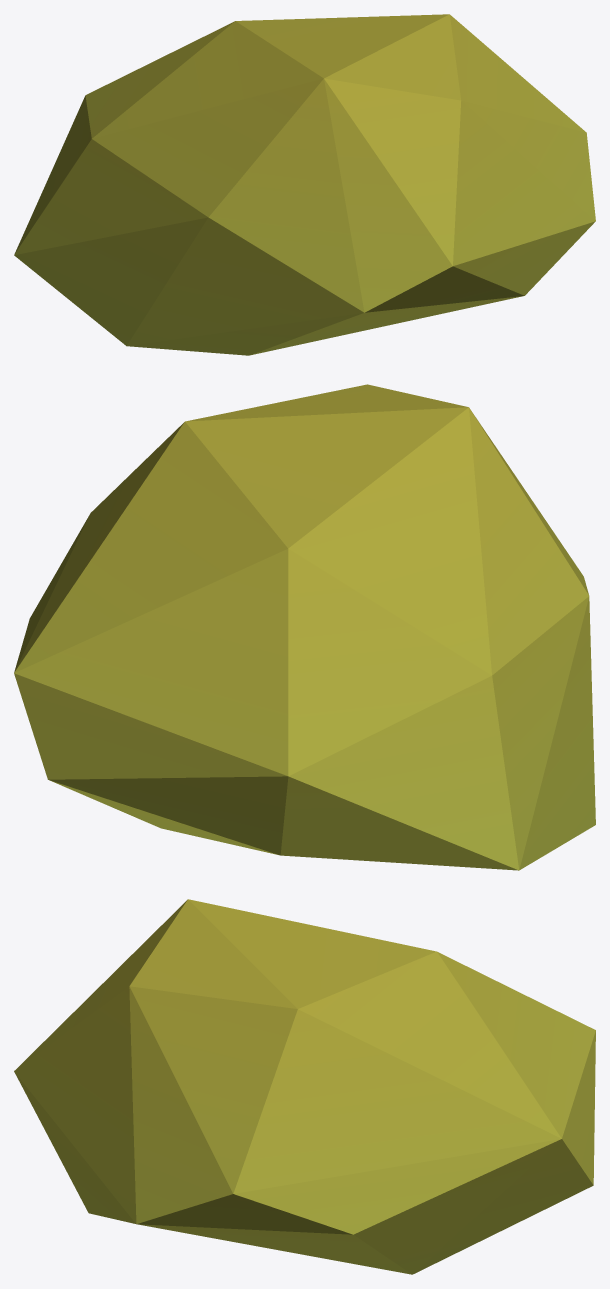
The model's file is Rock_03.fbx.
3 renders of one model, top to bottom at view 1: azimuth 30°, elevation 25°; view 2: azimuth 150°, elevation 25°; view 3: azimuth 270°, elevation 25°, orthographic. The views are drawn at different scales.
Visible parts, largest first — view 1: Rock_03; view 2: Rock_03; view 3: Rock_03.
Part boxes in pixels (box(x1,y1,x2,y2)): Rock_03: box(14, 14, 595, 355); Rock_03: box(14, 384, 595, 870); Rock_03: box(14, 899, 595, 1274).
Bounding box in the file's own units: 1.39 × 0.7673 × 1.43.
